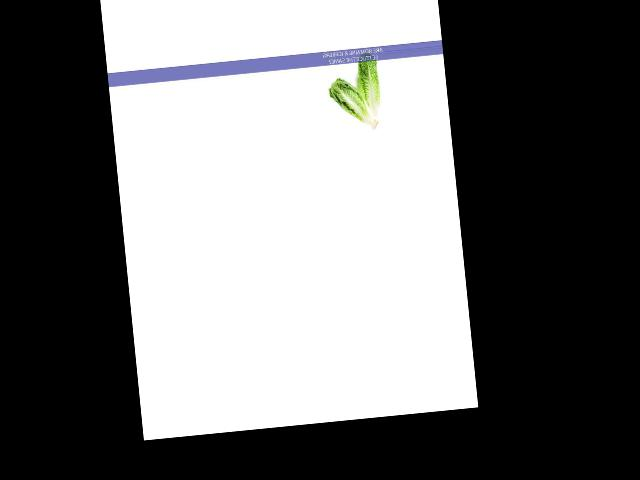lettuce: (328, 70, 381, 133)
